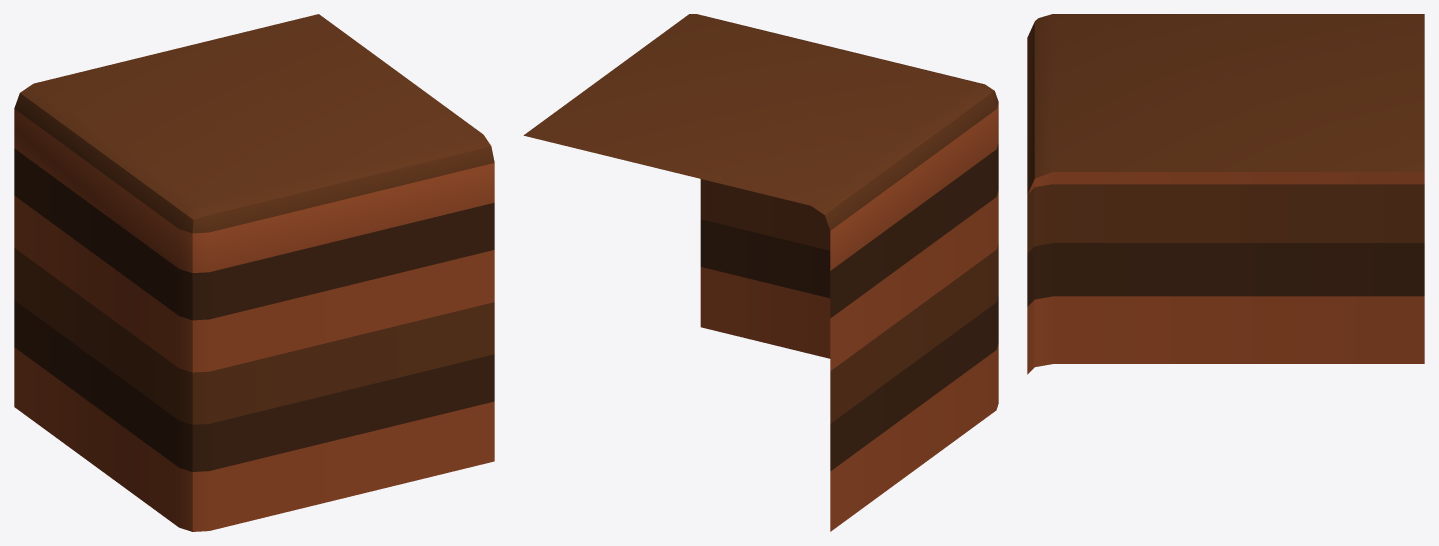
The model's file is Cube_Dirt_Corner_Tall.obj.
3 views of the same model, side by side, from view 1: azimuth 30°, elevation 25°; view 2: azimuth 150°, elevation 25°; view 3: azimuth 270°, elevation 25° (orthographic). The views are drawn at different scales.
Parts seen in each view (by area): view 1: Cube_Dirt_Corner_Tall_Cube.415; view 2: Cube_Dirt_Corner_Tall_Cube.415; view 3: Cube_Dirt_Corner_Tall_Cube.415.
Part boxes in pixels (left/top/right/bottom): Cube_Dirt_Corner_Tall_Cube.415: left=14, top=14, right=494, bottom=531; Cube_Dirt_Corner_Tall_Cube.415: left=523, top=14, right=998, bottom=531; Cube_Dirt_Corner_Tall_Cube.415: left=1027, top=14, right=1424, bottom=374.
Bounding box in the file's own units: 2 × 2 × 2.
